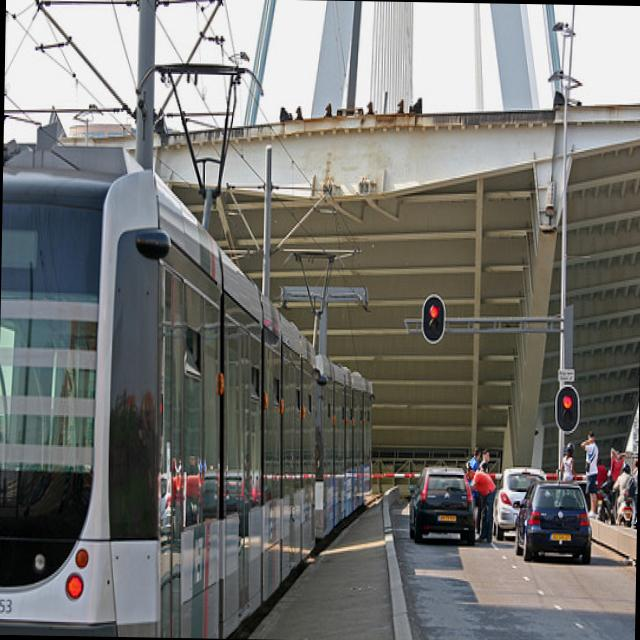Vehicle: (514, 480, 594, 568), (408, 466, 476, 548), (493, 464, 547, 540), (596, 469, 617, 525), (616, 491, 636, 526)
